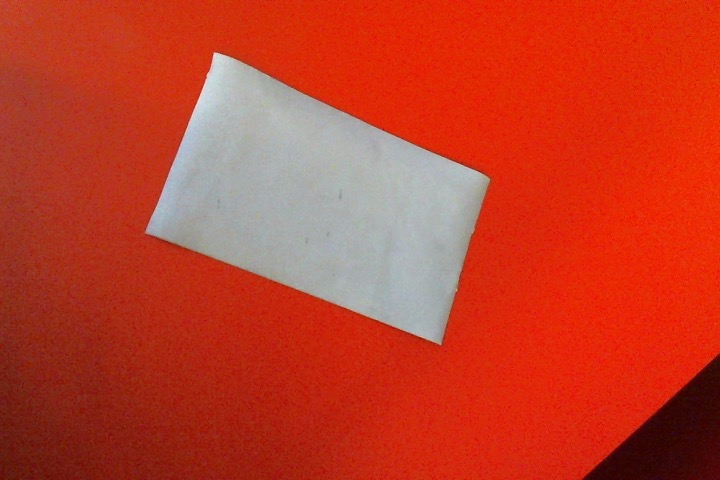Tape: (145, 52, 491, 346)
